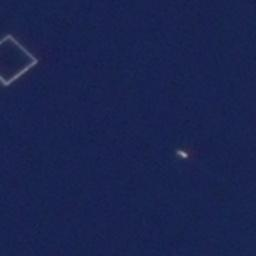square_solid: (1, 30, 41, 90)
